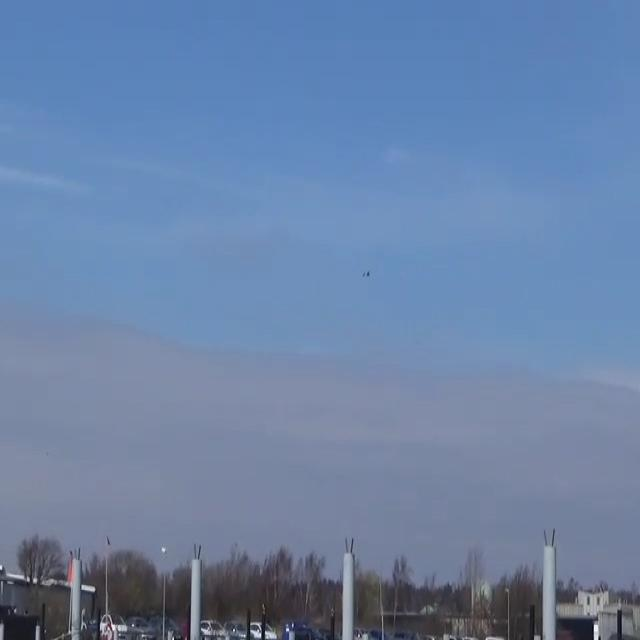bird: (361, 268, 373, 280)
